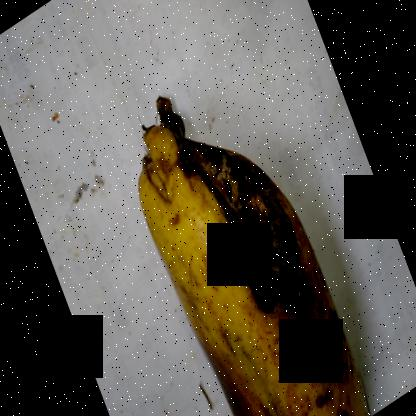ripe: (106, 130, 386, 415)
rotten: (143, 71, 328, 325)
